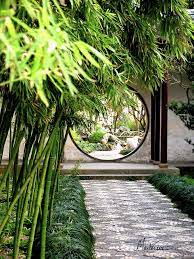bamboo: (49, 2, 189, 113), (1, 1, 48, 258)
